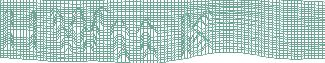H: (1, 7, 40, 55)
K: (179, 10, 215, 59)
W: (48, 6, 106, 56)
t: (134, 18, 162, 63), (108, 17, 132, 63)
